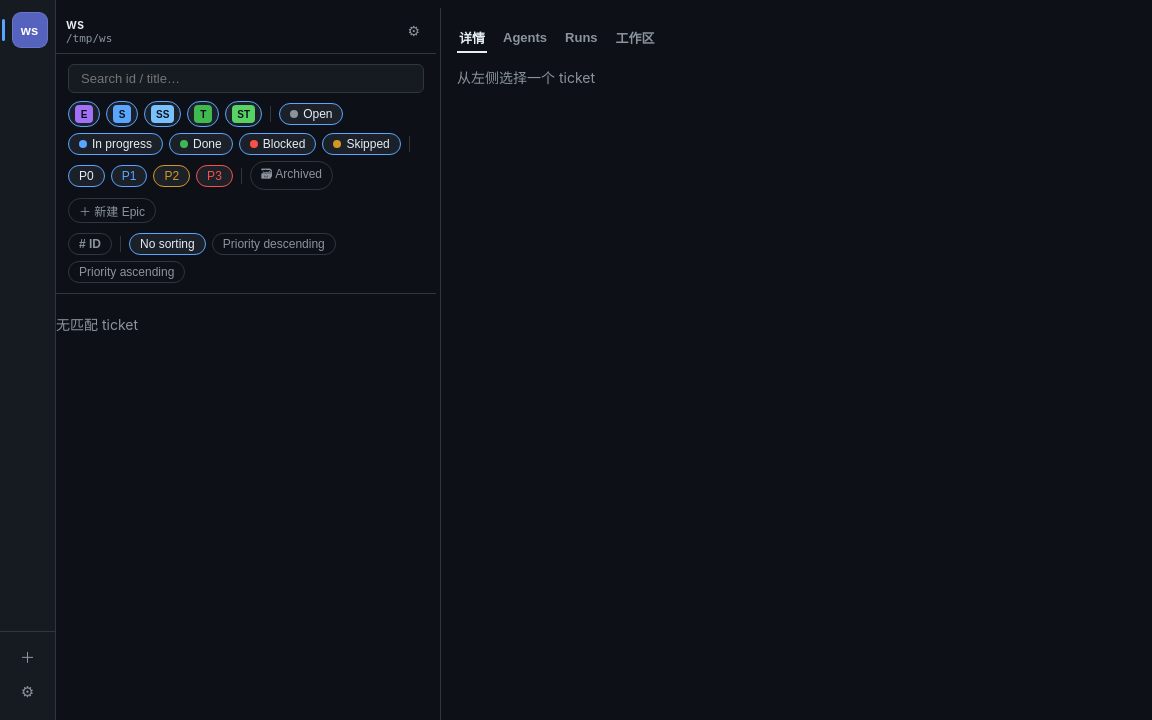
it: U1：图标栏布局与全局设置 › 树与 splitter 在详情/Agents/Runs/工作区各标签下常驻；⚙ 全局设置占满内容区，关闭恢复
Check: the navigation bar with class "workspace-rail" is shown, box [0,0,56,719]
Check: the element with class "tree-wrap" is shown, box [56,8,436,719]
Click the button "Agents": (525, 38) [501,24,549,53]
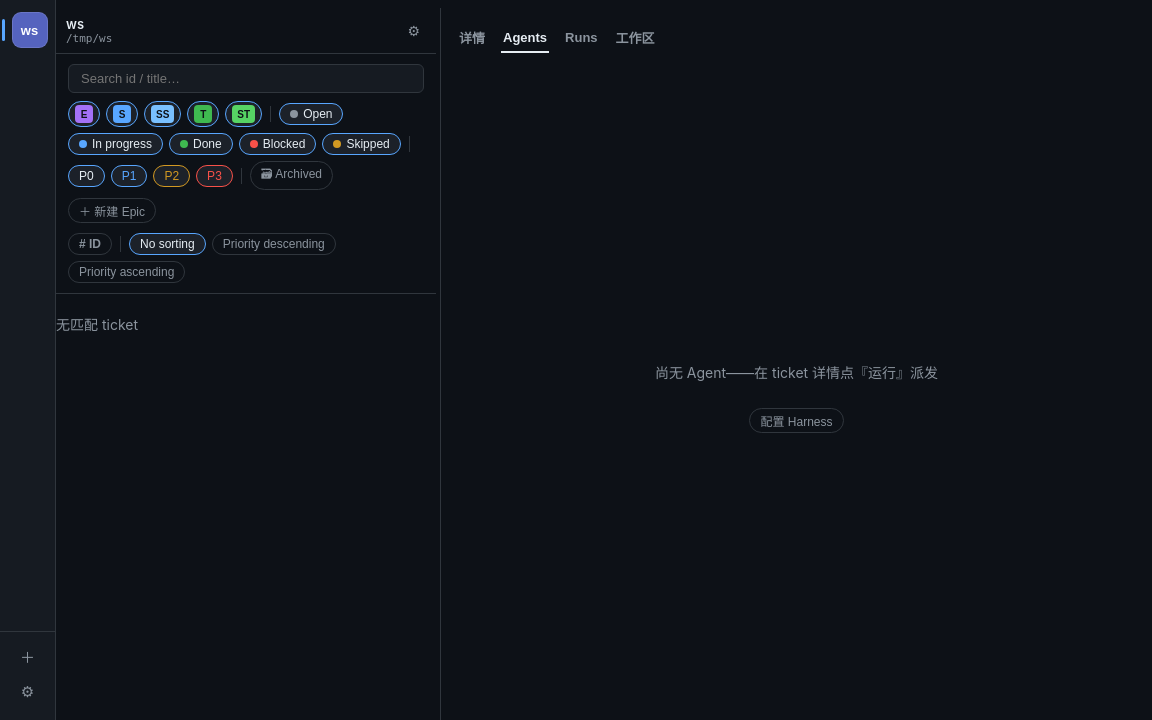
Check: the element with class "tree-wrap" is shown, box [56,8,436,719]
Check: the element with class "splitter" is shown, box [436,8,441,719]
Click the button "Runs": (581, 38) [563,24,600,53]
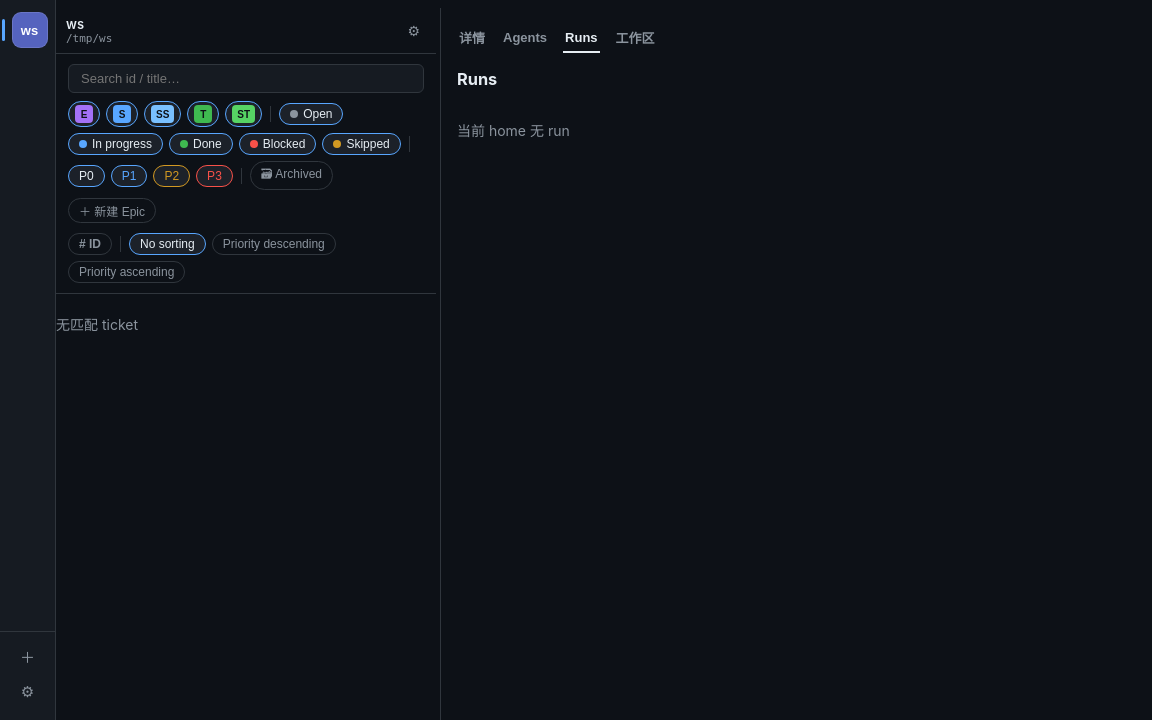
Check: the element with class "tree-wrap" is shown, box [56,8,436,719]
Check: the element with class "splitter" is shown, box [436,8,441,719]
Click the button "工作区": (635, 38) [614,24,657,53]
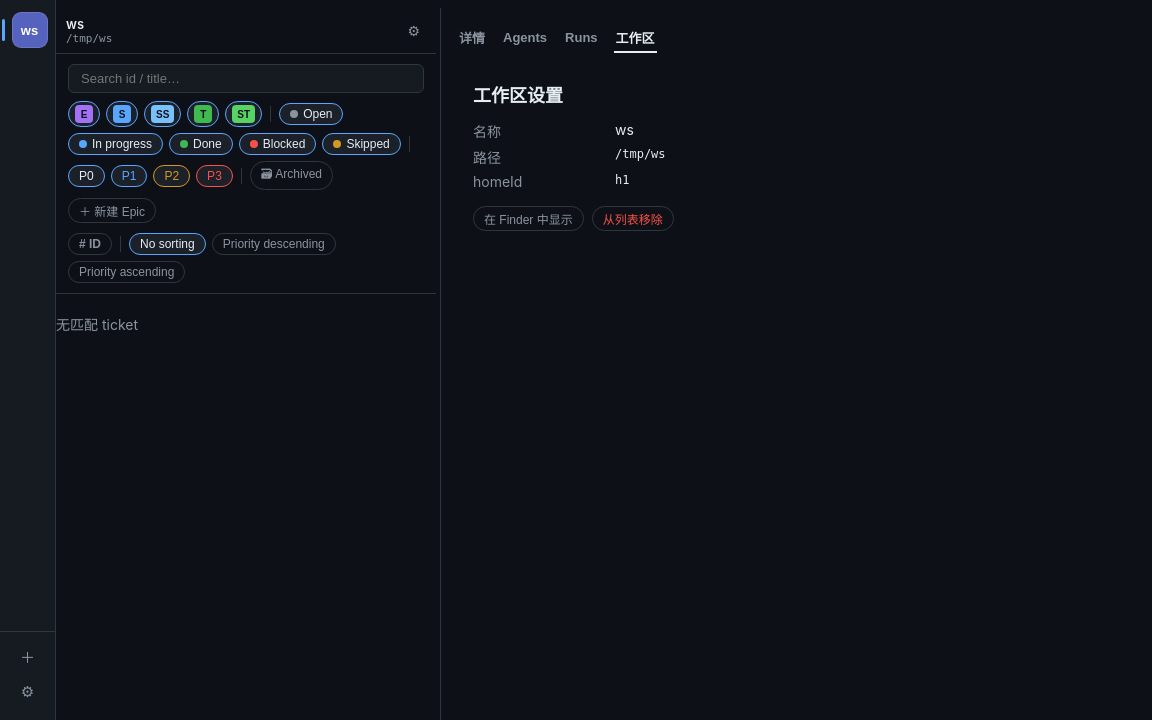
Check: the element with class "tree-wrap" is shown, box [56,8,436,719]
Check: the element with class "splitter" is shown, box [436,8,441,719]
Click the button "详情": (472, 38) [457,24,487,53]
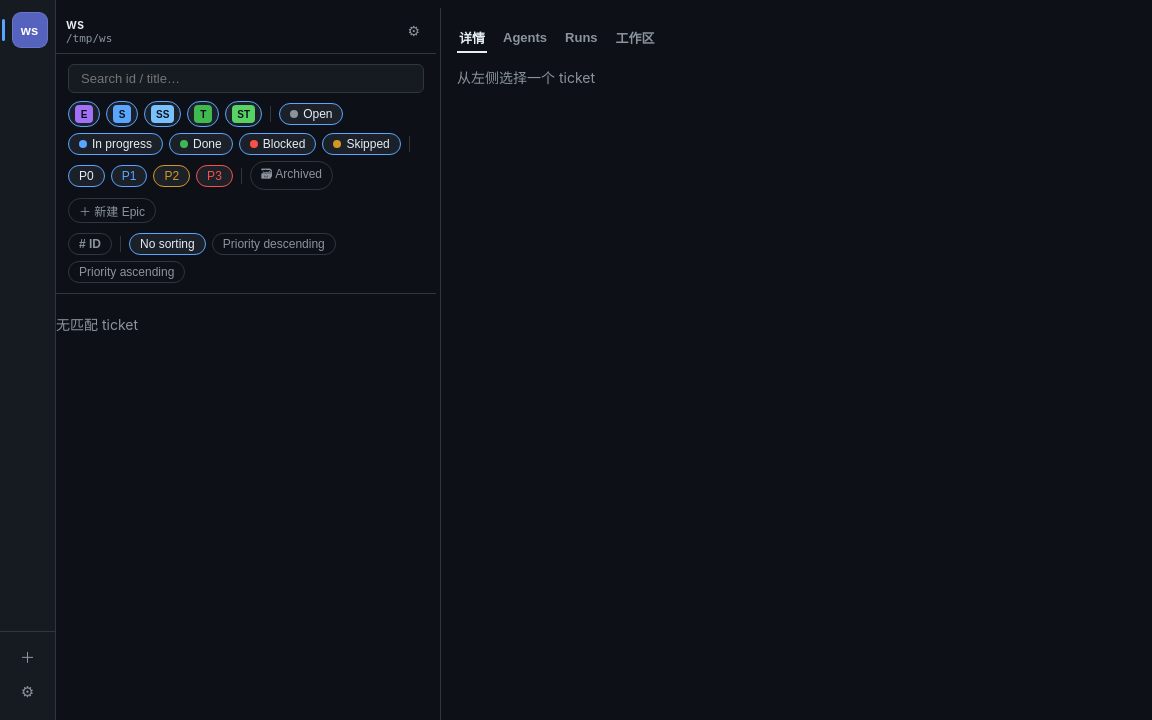
Check: the element with class "tree-wrap" is shown, box [56,8,436,719]
Check: the element with class "splitter" is shown, box [436,8,441,719]
Click the 2nd button titled "全局设置": (28, 692) [12,676,44,708]
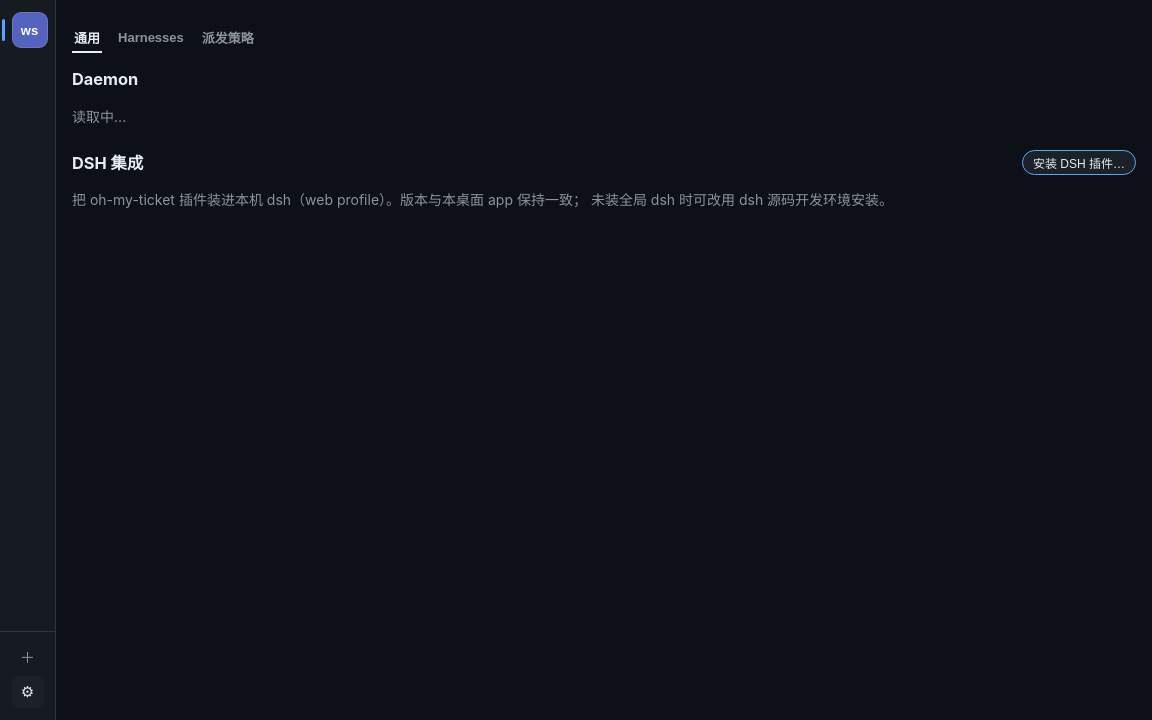
Check: the element with class "tree-wrap" is gone
Check: the element with class "splitter" is gone
Check: the heading "Daemon" is shown, box [72,69,138,89]
Click the button titled "全局设置": (28, 692) [12,676,44,708]
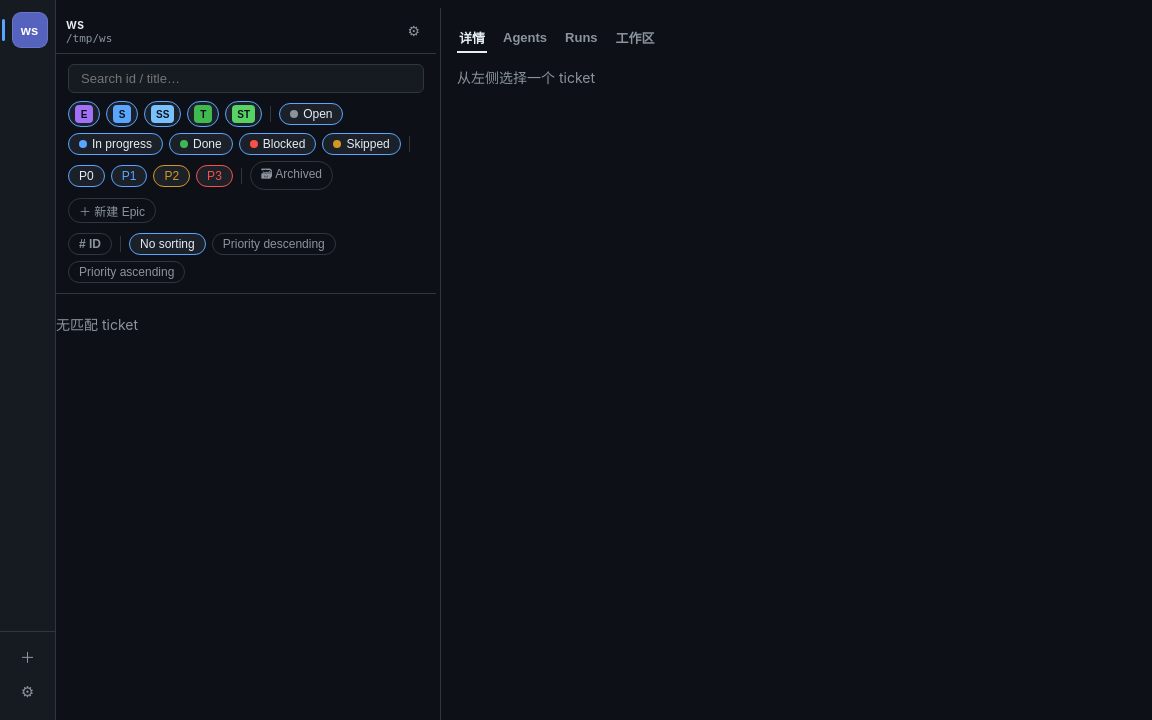
Check: the element with class "tree-wrap" is shown, box [56,8,436,719]
Check: the heading "DSH 集成" is gone
